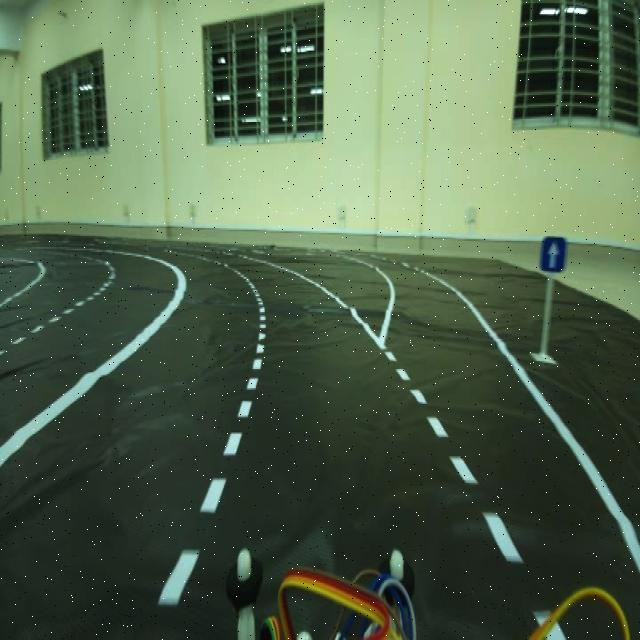onewayroad: (538, 222, 570, 290)
